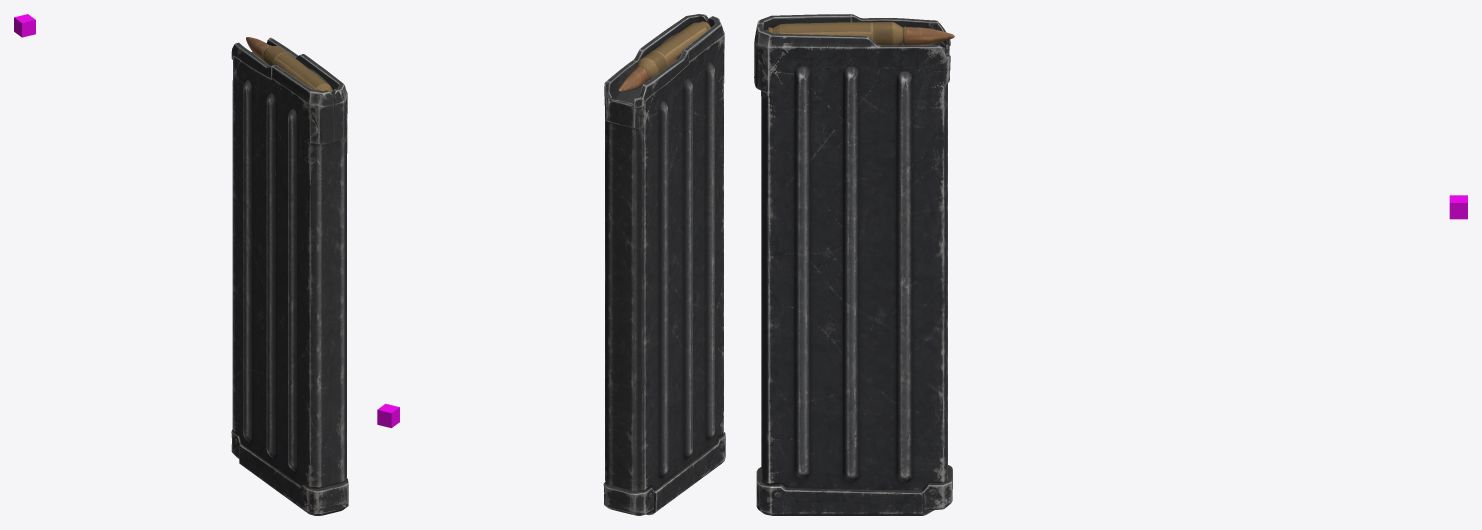
The model's file is ExtendedMag_DMR.glb.
The picture shows the model from 3 angles, left to right: view 1: azimuth 30°, elevation 25°; view 2: azimuth 150°, elevation 25°; view 3: azimuth 270°, elevation 25°; orthographic projection. The views are drawn at different scales.
Parts seen in each view (by area): view 1: Magazine_Ext_12, Magazine_Ext_05, Magazine_Ext_07, Magazine_Ext_11, Magazine_Ext_10, Magazine_Ext_02, Magazine_Ext_08, Magazine_Ext_04, Magazine_Ext_06, Magazine_Ext_03, Magazine_Ext_09, Magazine_Ext_01 (+1 smaller); view 2: Magazine_Ext_01, Magazine_Ext_05, Magazine_Ext_08, Magazine_Ext_02, Magazine_Ext_03, Magazine_Ext_11, Magazine_Ext_07, Magazine_Ext_06, Magazine_Ext_09, Magazine_Ext_04, Magazine_Ext_10, Point_Front; view 3: Magazine_Ext_05, Magazine_Ext_08, Magazine_Ext_02, Magazine_Ext_11, Magazine_Ext_07, Magazine_Ext_10, Magazine_Ext_03, Magazine_Ext_12, Magazine_Ext_01, Magazine_Ext_04, Magazine_Ext_06, Magazine_Ext_09.
Boxes of the visible parts, box(x1,y1,x2,y2) form: Magazine_Ext_12: box(307, 85, 348, 515); Magazine_Ext_05: box(246, 46, 307, 485); Magazine_Ext_07: box(267, 59, 318, 491); Magazine_Ext_11: box(296, 78, 347, 514); Magazine_Ext_10: box(289, 73, 336, 507); Magazine_Ext_02: box(232, 38, 281, 465); Magazine_Ext_08: box(276, 64, 328, 499); Magazine_Ext_04: box(244, 45, 292, 471); Magazine_Ext_06: box(265, 55, 311, 485); Magazine_Ext_03: box(239, 42, 288, 467); Magazine_Ext_09: box(286, 72, 330, 505); Magazine_Ext_01: box(231, 37, 271, 452); Magazine_Ext_01: box(603, 81, 647, 515); Magazine_Ext_05: box(624, 44, 688, 505); Magazine_Ext_08: box(657, 28, 711, 482); Magazine_Ext_02: box(606, 70, 658, 515); Magazine_Ext_03: box(616, 66, 667, 510); Magazine_Ext_11: box(677, 15, 724, 468); Magazine_Ext_07: box(649, 35, 703, 488); Magazine_Ext_06: box(642, 42, 692, 490); Magazine_Ext_09: box(668, 27, 714, 475); Magazine_Ext_04: box(621, 61, 670, 507); Magazine_Ext_10: box(670, 22, 718, 472); Point_Front: box(377, 403, 399, 427); Magazine_Ext_05: box(846, 16, 904, 515); Magazine_Ext_08: box(793, 14, 841, 515); Magazine_Ext_02: box(912, 19, 946, 515); Magazine_Ext_11: box(767, 15, 799, 515); Magazine_Ext_07: box(817, 14, 855, 515); Magazine_Ext_10: box(783, 15, 817, 515); Magazine_Ext_03: box(895, 18, 923, 515); Magazine_Ext_12: box(754, 17, 769, 514); Magazine_Ext_01: box(934, 24, 954, 509); Magazine_Ext_04: box(892, 18, 911, 515); Magazine_Ext_06: box(845, 14, 863, 515); Magazine_Ext_09: box(790, 14, 817, 515).
Bounding box in the file's own units: 0.1053 × 0.8831 × 1.18.
2 materials, 1 textured.
